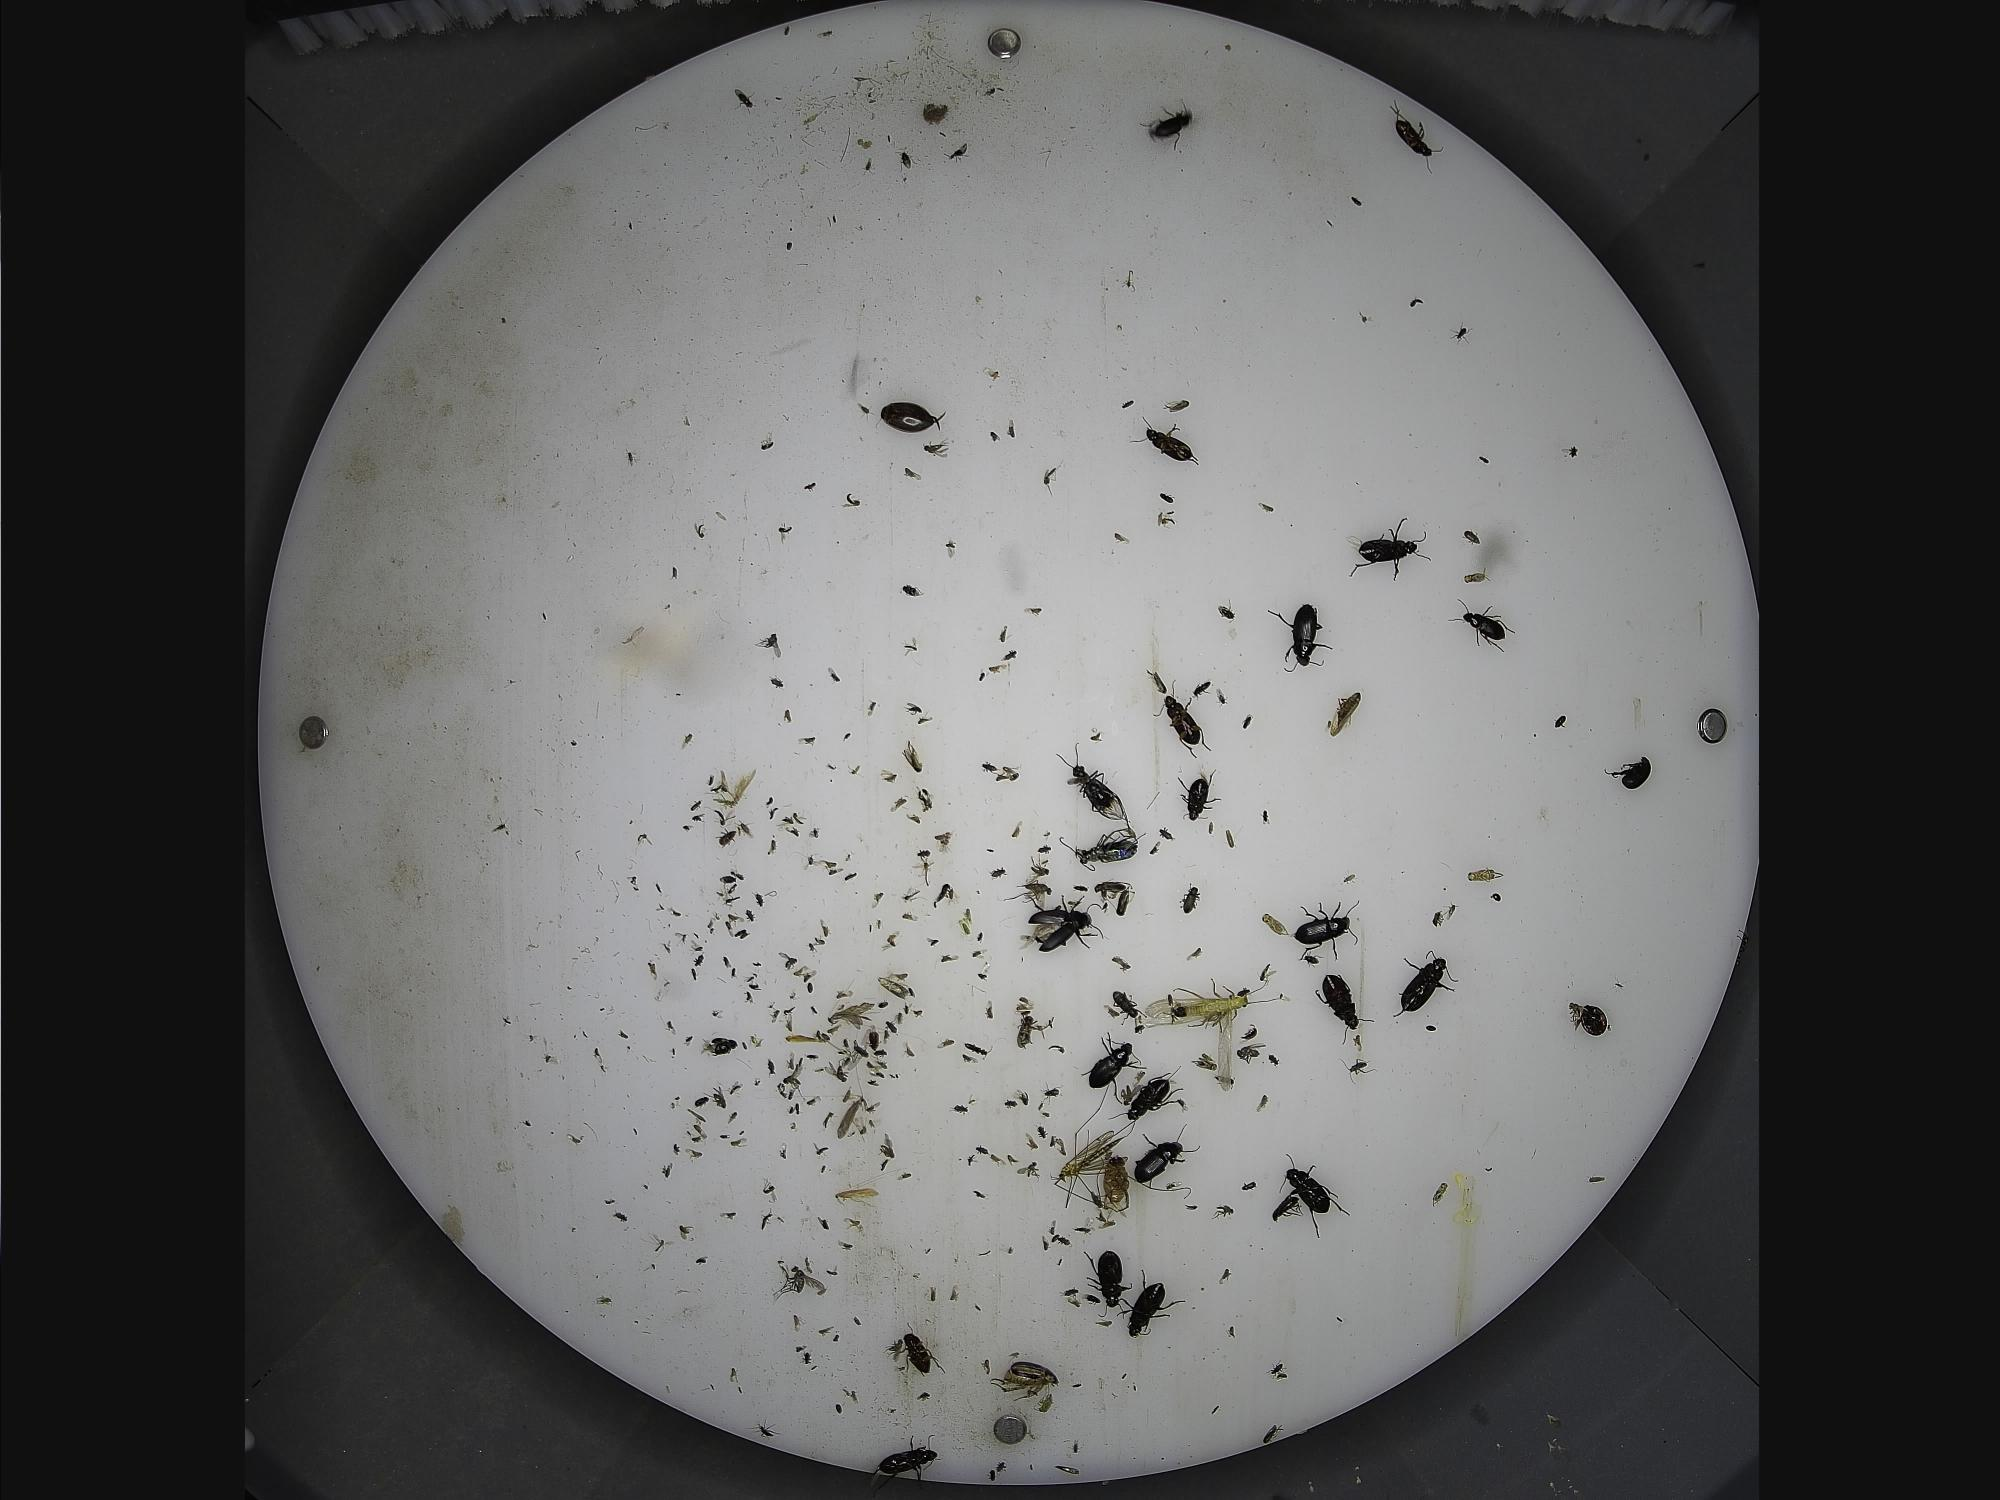Chrysopidae: (1140, 974, 1285, 1100)
Tiny fly: (1324, 685, 1367, 741), (769, 1265, 828, 1300), (1038, 462, 1063, 503), (753, 632, 784, 659), (921, 438, 956, 462), (902, 739, 924, 775), (1463, 867, 1506, 884), (732, 87, 757, 113), (1157, 400, 1197, 416), (1016, 1161, 1043, 1183), (773, 522, 795, 545), (899, 635, 923, 657), (1214, 602, 1236, 624), (948, 143, 973, 162), (898, 583, 928, 599), (899, 468, 926, 485), (1109, 955, 1131, 975), (1110, 531, 1134, 550), (1213, 1202, 1236, 1221), (1117, 889, 1131, 920), (824, 665, 844, 685), (1017, 605, 1044, 619), (984, 663, 1014, 676), (1214, 689, 1231, 709), (902, 701, 924, 717), (1005, 416, 1017, 443), (795, 736, 819, 750), (945, 536, 959, 559), (987, 867, 1011, 881), (1009, 818, 1024, 840), (1241, 711, 1255, 733), (1184, 950, 1206, 964), (997, 624, 1009, 648), (843, 493, 861, 509), (890, 797, 910, 811), (1016, 1089, 1030, 1109), (1255, 1092, 1269, 1112), (879, 772, 899, 785), (866, 700, 877, 718)
beetle: (1272, 1145, 1353, 1251), (1050, 737, 1137, 824), (1342, 512, 1435, 586), (1019, 889, 1109, 960), (1076, 1029, 1154, 1109), (1102, 1064, 1184, 1139), (1115, 1265, 1189, 1349), (1387, 944, 1463, 1023), (1263, 597, 1337, 678), (1148, 679, 1214, 766), (1309, 967, 1380, 1046), (1126, 1123, 1203, 1193), (866, 1432, 946, 1498), (1121, 413, 1208, 471), (1290, 898, 1365, 964), (1441, 596, 1524, 655), (1055, 824, 1151, 876), (1076, 1248, 1128, 1319), (1389, 106, 1443, 172), (899, 1319, 948, 1383), (1137, 104, 1203, 151), (1175, 767, 1225, 827), (1597, 748, 1654, 800), (871, 400, 950, 435), (1176, 874, 1206, 919)
insect: (983, 1361, 1061, 1405), (1094, 1153, 1132, 1224)
